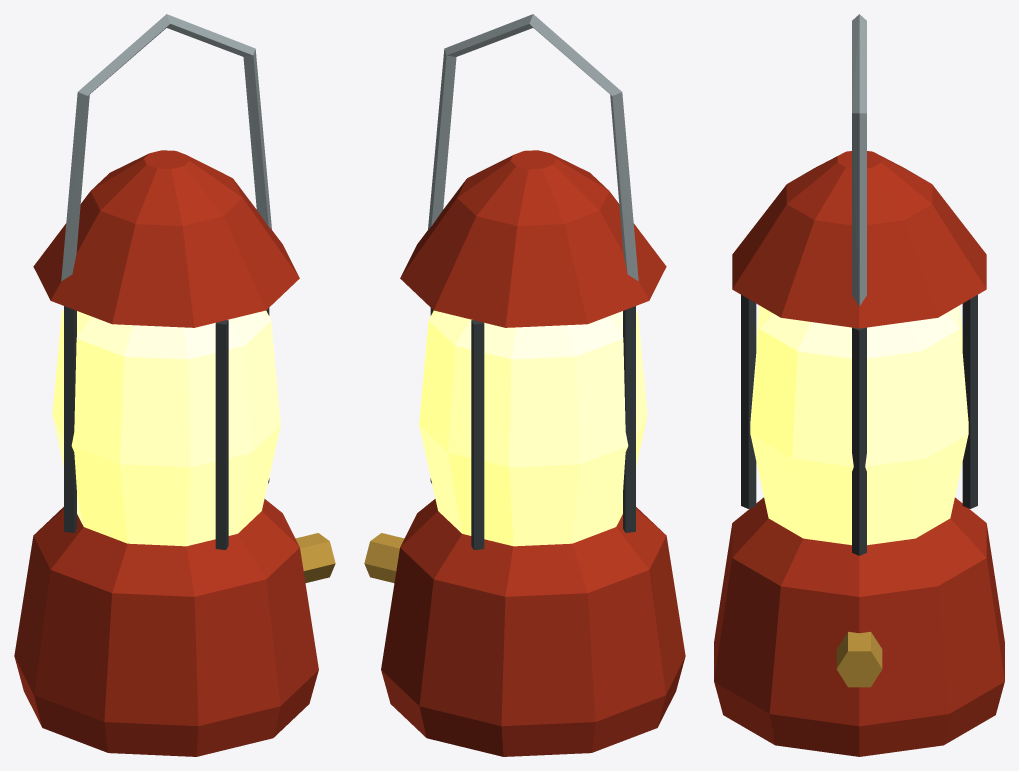
The model's file is WH_Lantern.glb.
3 views of the same model, side by side, from view 1: azimuth 30°, elevation 25°; view 2: azimuth 150°, elevation 25°; view 3: azimuth 270°, elevation 25° (orthographic).
Parts seen in each view (by area): view 1: WH_Lantern; view 2: WH_Lantern; view 3: WH_Lantern.
Part boxes in pixels (box(x1,y1,x2,y2)): WH_Lantern: box(14, 14, 335, 756); WH_Lantern: box(364, 14, 685, 756); WH_Lantern: box(714, 14, 1004, 756).
Bounding box in the file's own units: 0.175 × 0.394 × 0.1522.
